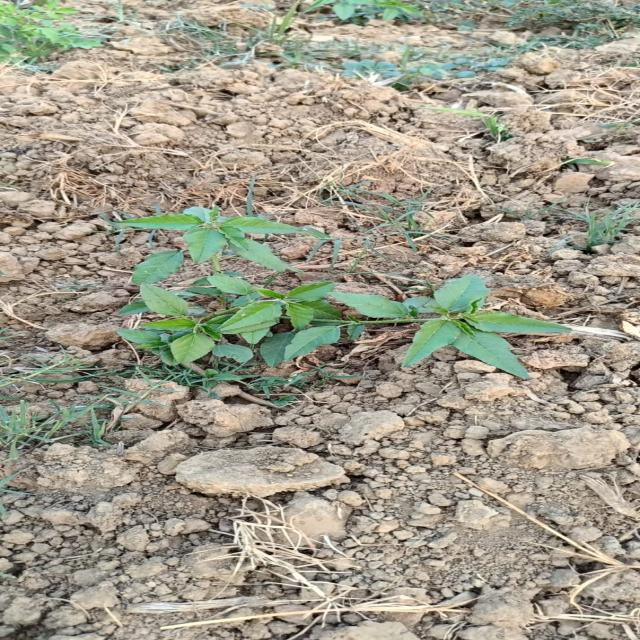plant: (116, 208, 572, 378)
